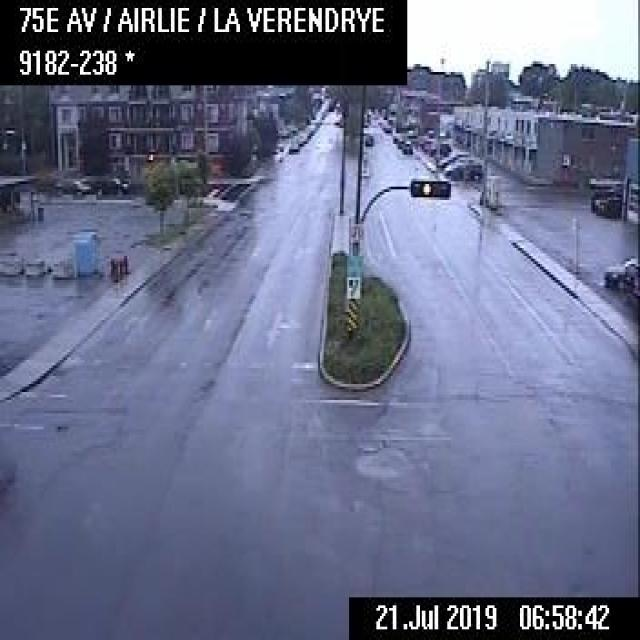construction: (116, 254, 124, 277), (122, 251, 130, 273), (111, 257, 118, 280)
vehicle: (601, 252, 637, 289), (89, 172, 129, 195), (443, 155, 481, 179), (53, 172, 89, 195), (362, 130, 375, 146), (399, 140, 411, 154), (286, 140, 298, 151), (395, 136, 403, 148), (382, 124, 392, 132), (390, 132, 398, 142), (294, 134, 302, 144)
